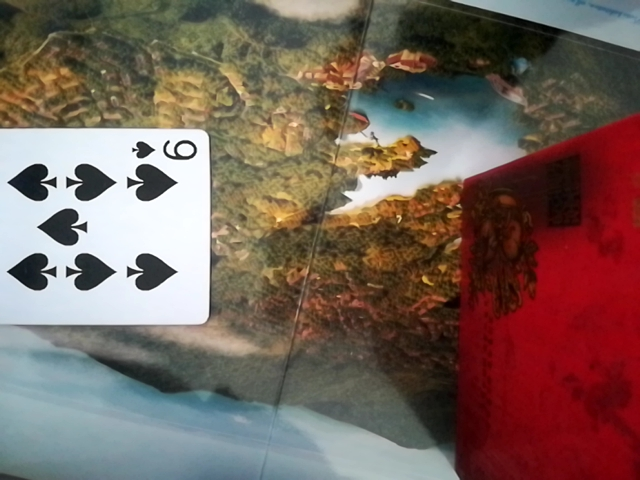ht 9: (0, 125, 208, 333)
